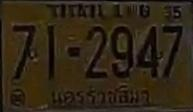1: (48, 25, 54, 79)
2: (86, 25, 106, 78)
4: (136, 25, 158, 77)
7: (12, 24, 35, 79), (162, 25, 182, 77)
9: (110, 25, 132, 78)
NMA: (50, 83, 153, 108)
